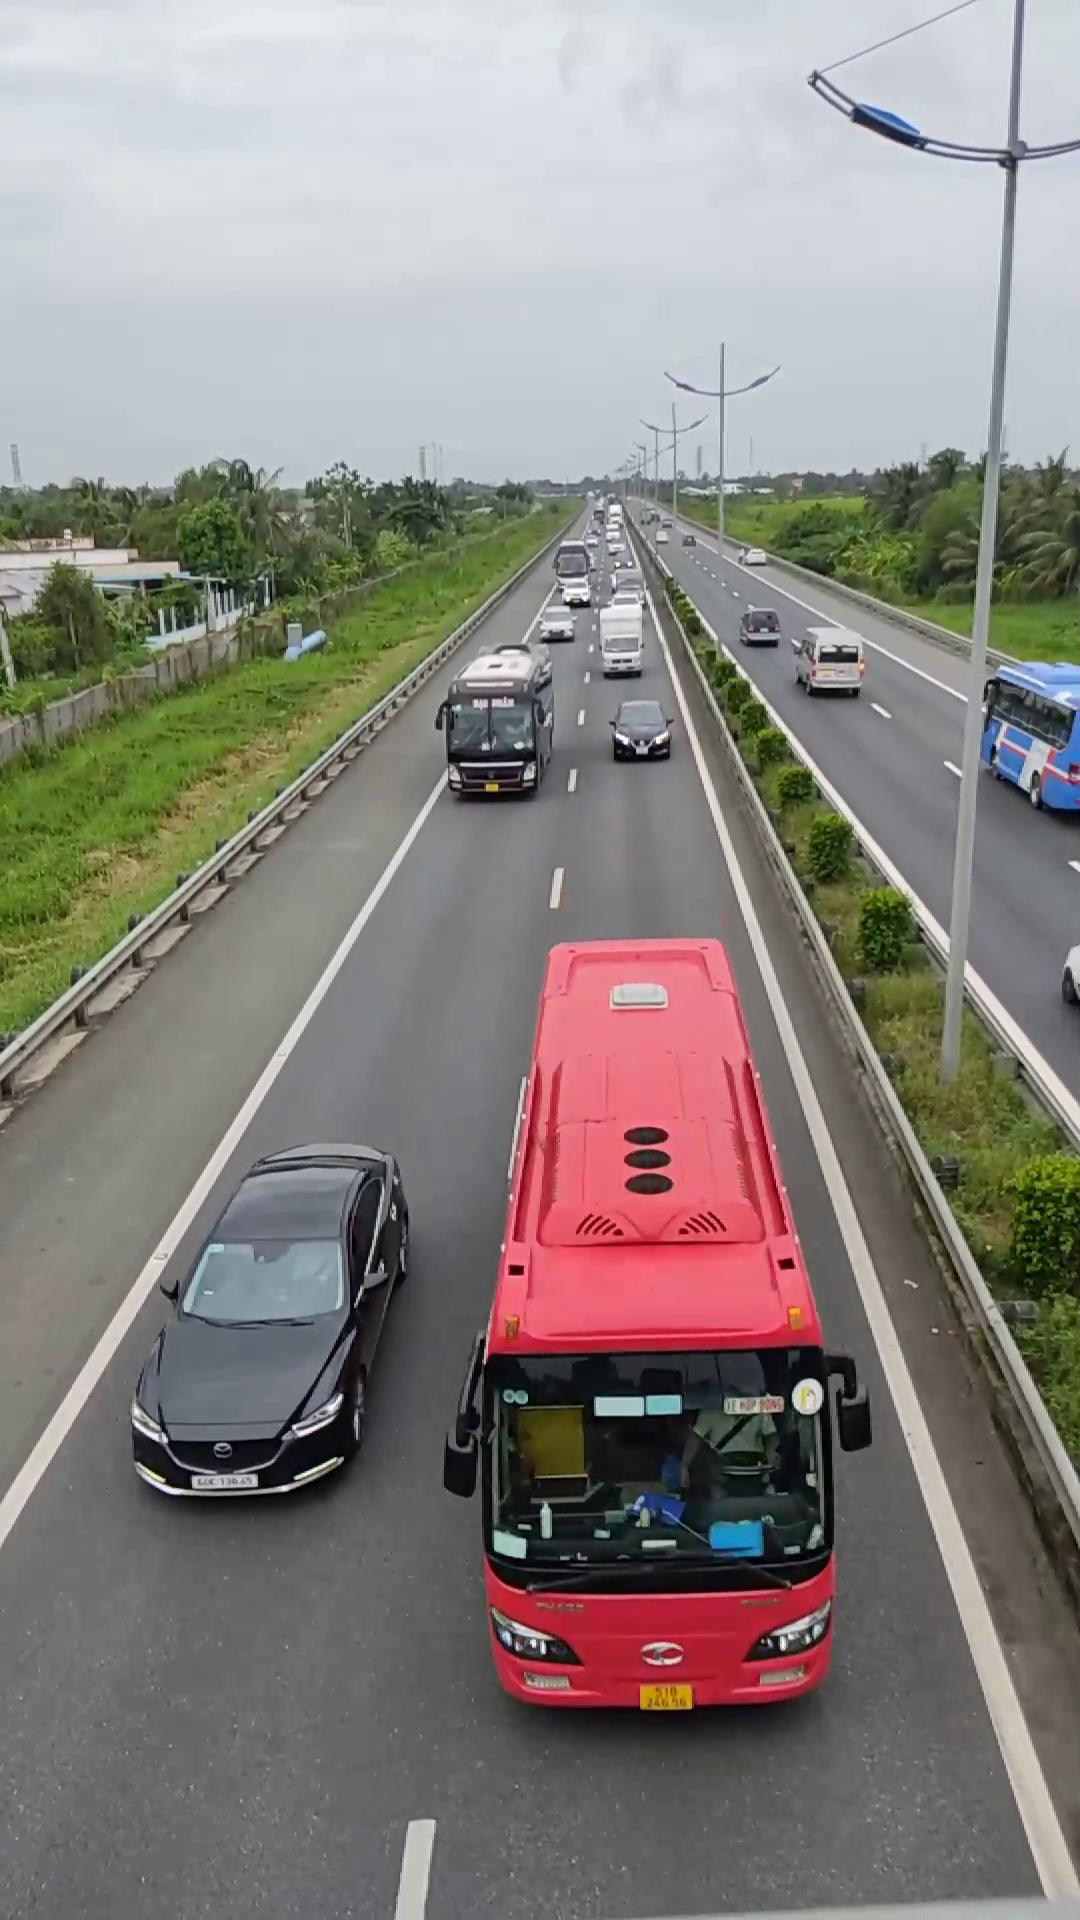bus: (448, 935, 858, 1712), (440, 645, 555, 798)
car: (127, 1141, 413, 1498), (790, 621, 866, 696), (607, 698, 673, 760)
truck: (978, 657, 1077, 814)
